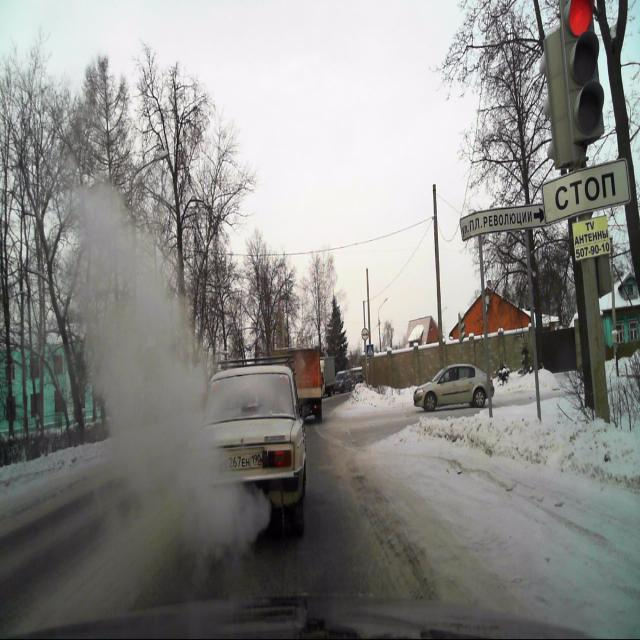road sign: (542, 160, 630, 228), (460, 204, 546, 244), (524, 230, 541, 422), (478, 236, 493, 422), (366, 344, 374, 358)
